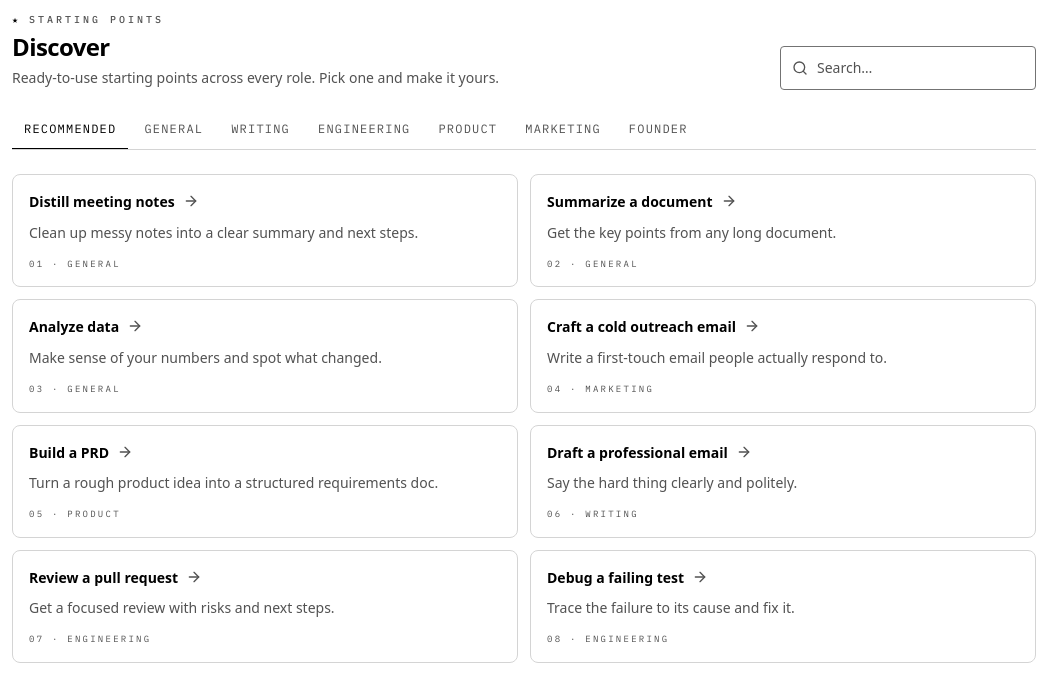
it: DiscoverGrid › narrows the grid to the selected category tab
The image size is (1048, 675).
Step 1. Click the tab "Engineering" → (364, 130), box x1=306 y1=110 x2=422 y2=150
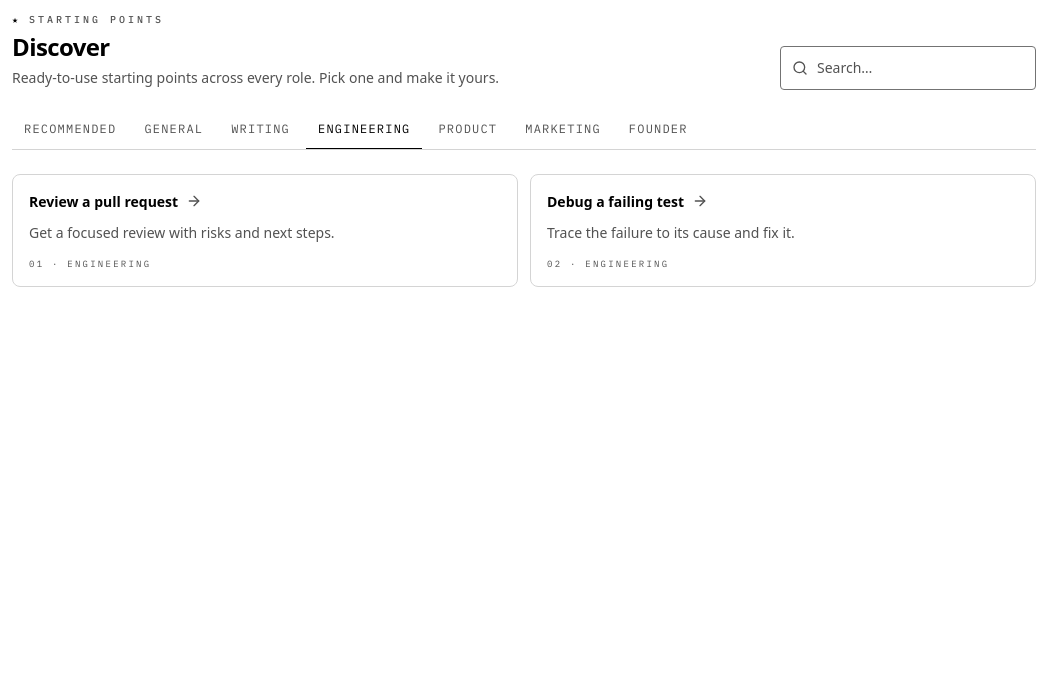
Expected: the button "Review a pull request" is shown, x1=12 y1=174 x2=518 y2=287
Expected: the button "Distill meeting notes" is gone
